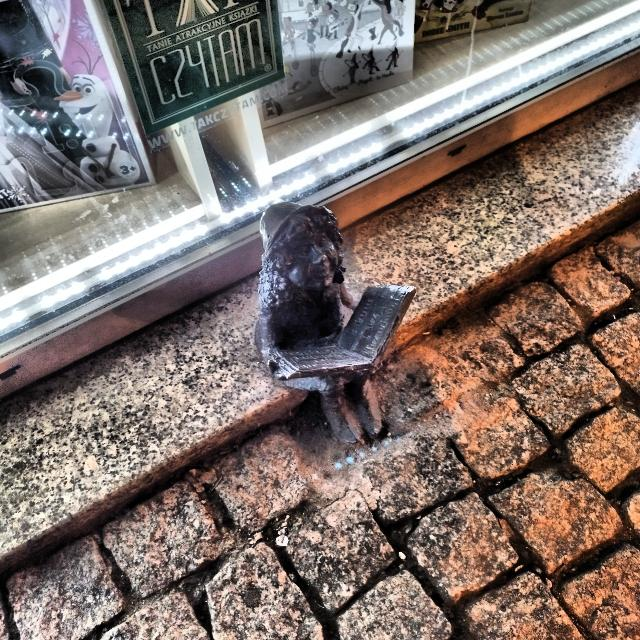Ksiegarka: (219, 188, 426, 467)
